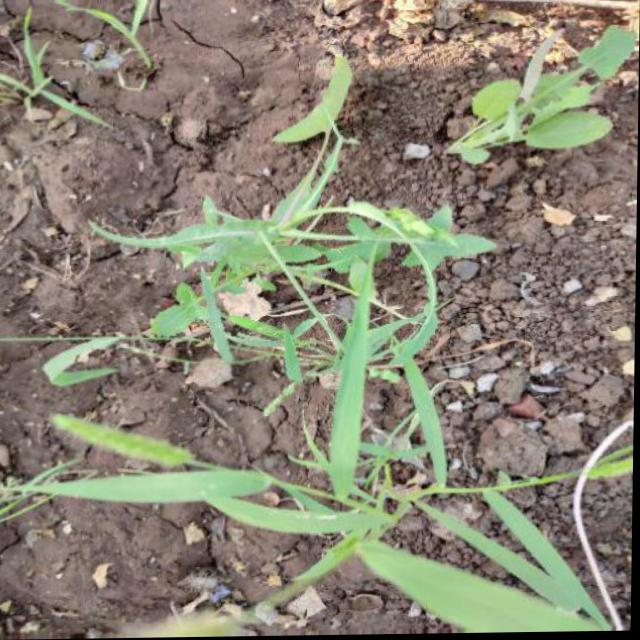weed: (119, 192, 503, 449)
